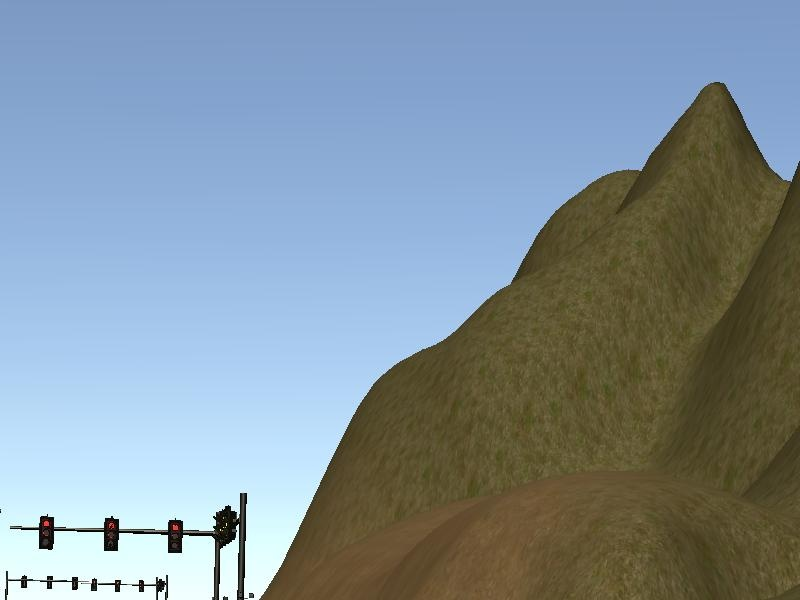traffic_light_red: (27, 516, 203, 554)
